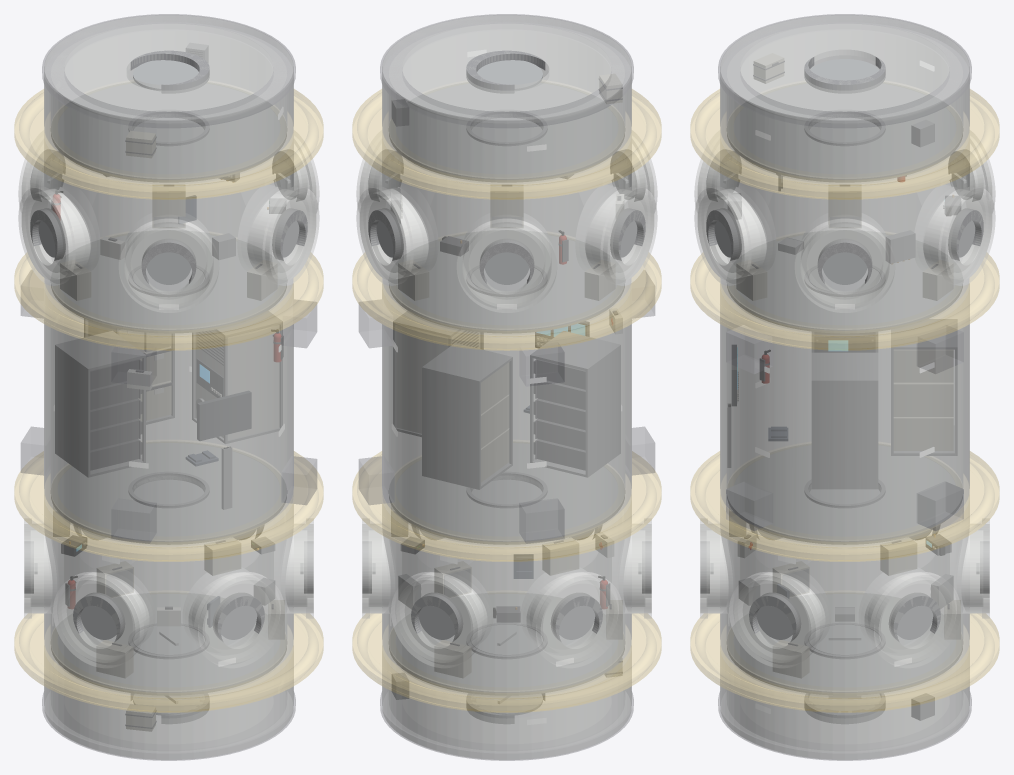
Rendered from station12_counter_ring_hub_combined.glb.
The picture shows the model from 3 angles, left to right: view 1: azimuth 30°, elevation 25°; view 2: azimuth 150°, elevation 25°; view 3: azimuth 270°, elevation 25°; orthographic projection.
Parts seen in each view (by area): view 1: pressure_vessel, ext_stator_ends, ext_stator_centre, ext_bearings_sliprings, ext_spoke_ports_a, ext_spoke_ports_b, ext_rotor_a, ext_rotor_b, interface_37_bulkhead, interface_31_bulkhead, interface_34_bulkhead, interface_28_bulkhead (+45 smaller); view 2: pressure_vessel, ext_stator_ends, ext_stator_centre, ext_bearings_sliprings, ext_spoke_ports_a, ext_spoke_ports_b, ext_rotor_a, ext_rotor_b, interface_37_bulkhead, interface_34_bulkhead, interface_31_bulkhead, interface_28_bulkhead (+43 smaller); view 3: pressure_vessel, ext_stator_ends, ext_stator_centre, ext_bearings_sliprings, ext_spoke_ports_a, ext_spoke_ports_b, ext_rotor_a, ext_rotor_b, interface_37_bulkhead, interface_31_bulkhead, interface_34_bulkhead, interface_28_bulkhead (+43 smaller).
Boxes of the visible parts, x1=… form: pressure_vessel: x1=22, y1=15, x2=315, y2=759; ext_stator_ends: x1=44, y1=15, x2=293, y2=759; ext_stator_centre: x1=44, y1=284, x2=293, y2=542; ext_bearings_sliprings: x1=14, y1=89, x2=323, y2=712; ext_spoke_ports_a: x1=18, y1=130, x2=319, y2=312; ext_spoke_ports_b: x1=24, y1=518, x2=313, y2=667; ext_rotor_a: x1=44, y1=133, x2=293, y2=331; ext_rotor_b: x1=44, y1=496, x2=293, y2=693; interface_37_bulkhead: x1=51, y1=81, x2=286, y2=182; interface_31_bulkhead: x1=51, y1=441, x2=286, y2=544; interface_34_bulkhead: x1=51, y1=230, x2=286, y2=333; interface_28_bulkhead: x1=51, y1=592, x2=286, y2=695; pressure_vessel: x1=360, y1=15, x2=653, y2=759; ext_stator_ends: x1=382, y1=15, x2=631, y2=759; ext_stator_centre: x1=382, y1=284, x2=631, y2=542; ext_bearings_sliprings: x1=352, y1=89, x2=661, y2=712; ext_spoke_ports_a: x1=356, y1=130, x2=657, y2=312; ext_spoke_ports_b: x1=362, y1=518, x2=651, y2=667; ext_rotor_a: x1=382, y1=133, x2=631, y2=331; ext_rotor_b: x1=382, y1=496, x2=631, y2=693; interface_37_bulkhead: x1=389, y1=81, x2=624, y2=182; interface_34_bulkhead: x1=389, y1=230, x2=624, y2=333; interface_31_bulkhead: x1=389, y1=441, x2=624, y2=544; interface_28_bulkhead: x1=389, y1=592, x2=624, y2=695; pressure_vessel: x1=698, y1=15, x2=991, y2=759; ext_stator_ends: x1=720, y1=15, x2=969, y2=759; ext_stator_centre: x1=720, y1=284, x2=969, y2=542; ext_bearings_sliprings: x1=690, y1=89, x2=999, y2=712; ext_spoke_ports_a: x1=694, y1=130, x2=995, y2=312; ext_spoke_ports_b: x1=700, y1=518, x2=989, y2=667; ext_rotor_a: x1=720, y1=133, x2=969, y2=331; ext_rotor_b: x1=720, y1=496, x2=969, y2=693; interface_37_bulkhead: x1=727, y1=82, x2=962, y2=182; interface_31_bulkhead: x1=727, y1=444, x2=962, y2=544; interface_34_bulkhead: x1=727, y1=230, x2=962, y2=333; interface_28_bulkhead: x1=727, y1=592, x2=962, y2=695.
Bounding box in the file's own units: 4.65 × 10.6 × 4.65.
